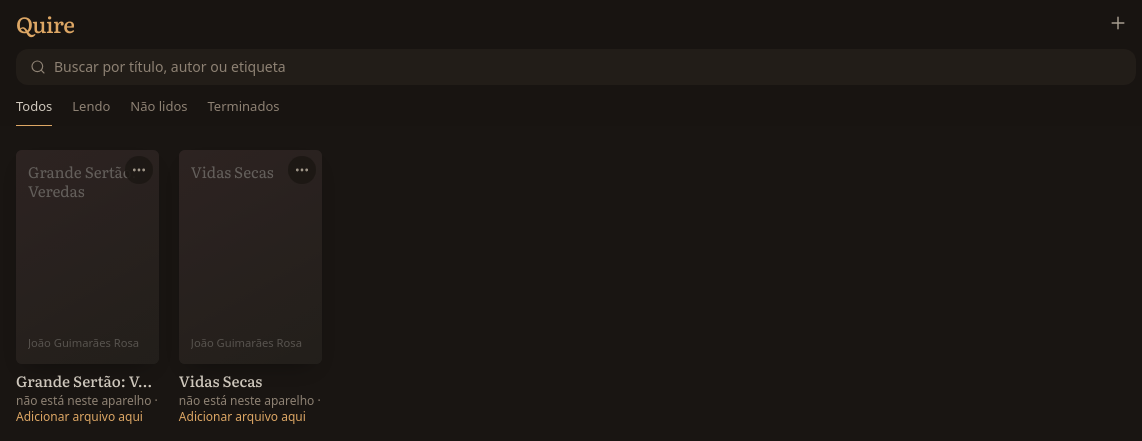
Test case: LibraryScreen › filtra por situação de leitura
Expected: the heading "Vidas Secas" is shown, [179,369,262,392]
Click the button "Terminados".
click(244, 111)  # box [208,97,280,126]
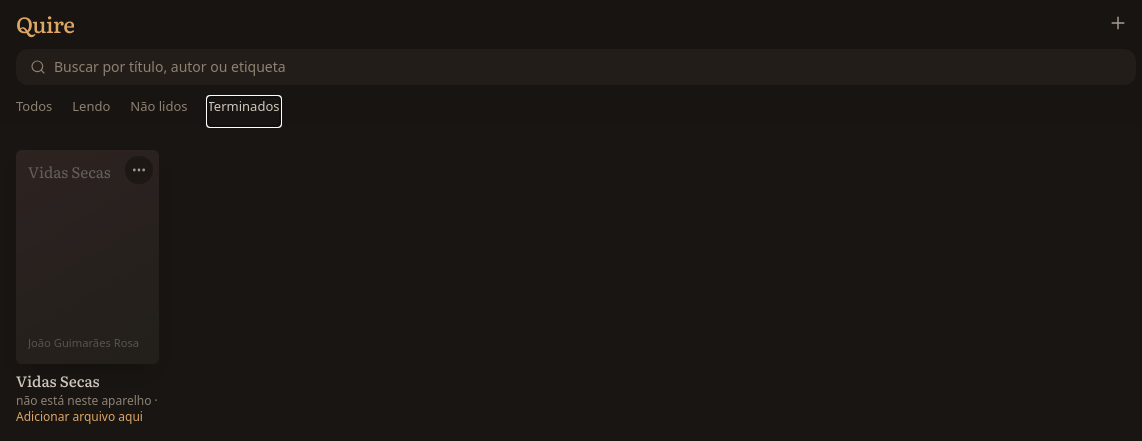
Expected: the heading "Vidas Secas" is shown, [16,369,100,392]
Now the text "Grande Sertão: Veredas" is gone
